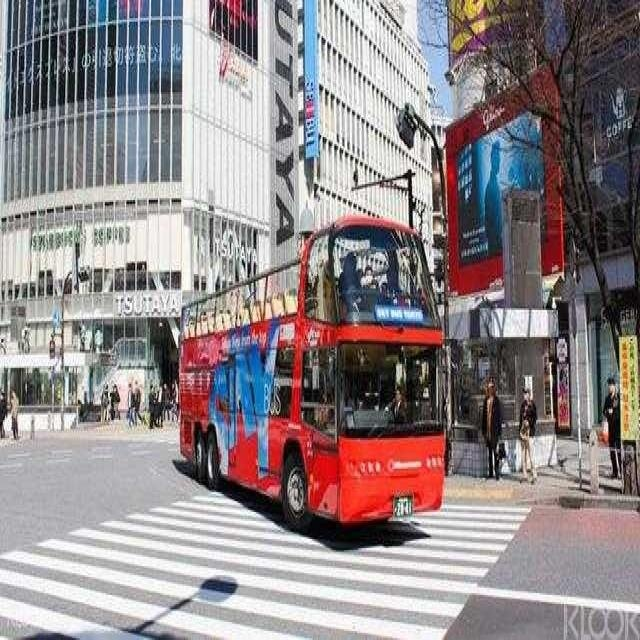Bus: (170, 199, 457, 535)
